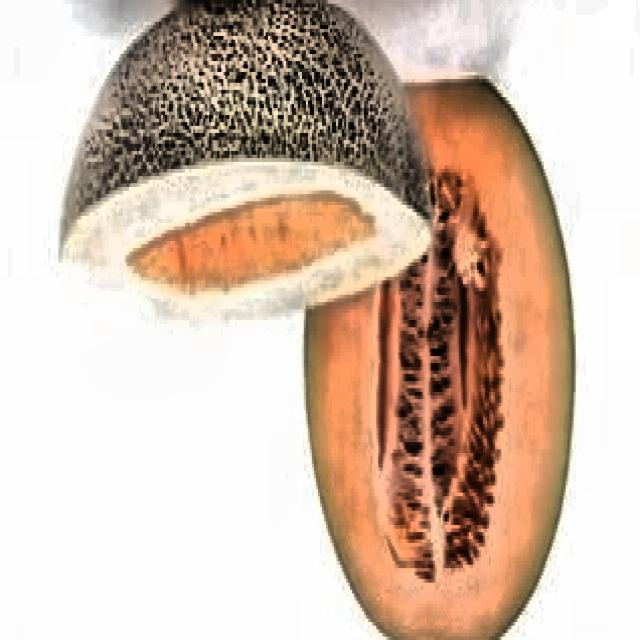Fruit: (40, 0, 594, 640)
